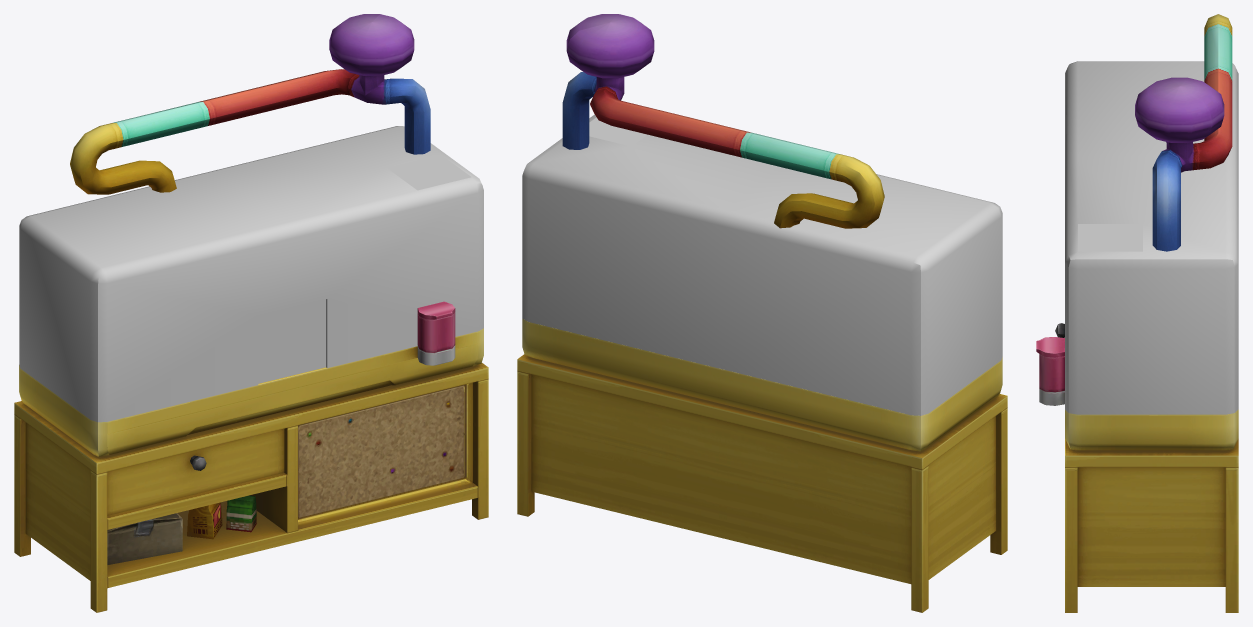
Rendered from jaulaSinRueda.fbx.
3 views of the same model, side by side, from view 1: azimuth 30°, elevation 25°; view 2: azimuth 150°, elevation 25°; view 3: azimuth 270°, elevation 25° (orthographic). The views are drawn at different scales.
Parts seen in each view (by area): view 1: s4studio_mesh_4, s4studio_mesh_2, s4studio_mesh_6; view 2: s4studio_mesh_4, s4studio_mesh_2, s4studio_mesh_6; view 3: s4studio_mesh_4, s4studio_mesh_2, s4studio_mesh_6.
Part boxes in pixels (<box>): s4studio_mesh_4: <box>19,126,483,422</box>; s4studio_mesh_2: <box>14,312,488,612</box>; s4studio_mesh_6: <box>70,14,455,319</box>; s4studio_mesh_4: <box>522,114,1002,415</box>; s4studio_mesh_2: <box>517,319,1007,612</box>; s4studio_mesh_6: <box>562,14,884,228</box>; s4studio_mesh_4: <box>1065,61,1238,414</box>; s4studio_mesh_2: <box>1039,323,1238,612</box>; s4studio_mesh_6: <box>1036,14,1232,357</box>.
Bounding box in the file's own units: 185 × 212 × 78.6.
Materials: 4 (3 with a texture image).
